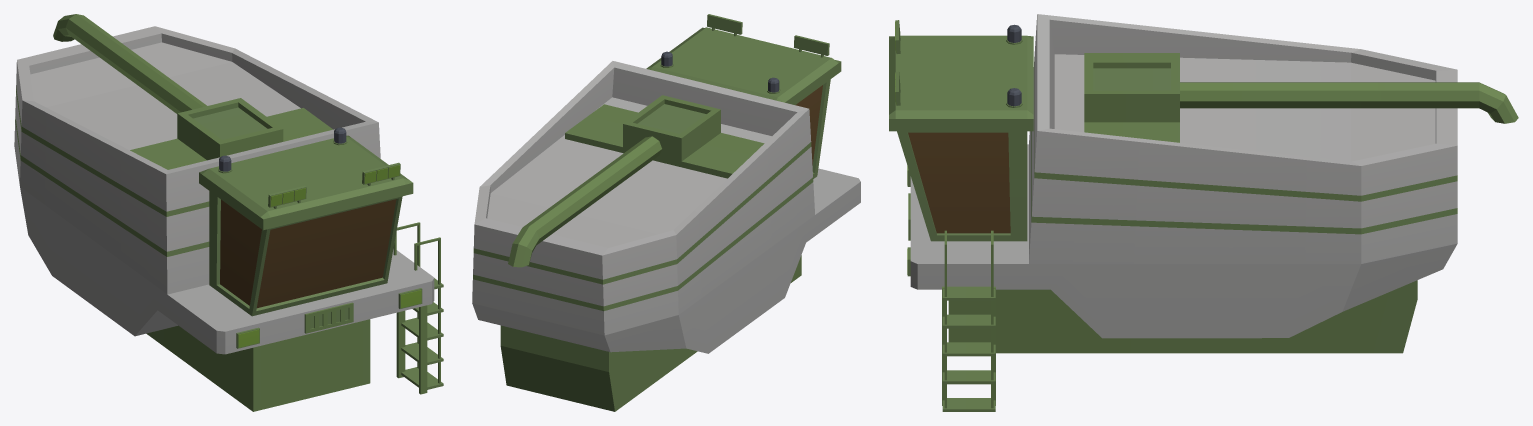
The model's file is Harvester_03.fbx.
The picture shows the model from 3 angles, left to right: view 1: azimuth 30°, elevation 25°; view 2: azimuth 150°, elevation 25°; view 3: azimuth 270°, elevation 25°; orthographic projection. The views are drawn at different scales.
Parts seen in each view (by area): view 1: Harvester_03; view 2: Harvester_03; view 3: Harvester_03.
Boxes of the visible parts, <box> form: Harvester_03: <box>14,14,443,411</box>; Harvester_03: <box>472,14,860,411</box>; Harvester_03: <box>889,14,1518,411</box>.
Bounding box in the file's own units: 3.07 × 3.15 × 6.24.
